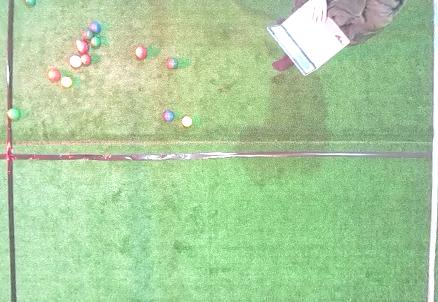blue: (163, 111, 174, 122), (90, 22, 101, 33)
green: (8, 108, 20, 120), (167, 58, 178, 69), (91, 36, 101, 46), (83, 30, 93, 39), (24, 1, 35, 6)
red: (47, 69, 61, 82), (70, 55, 81, 68), (135, 47, 147, 58), (78, 41, 88, 53), (81, 54, 91, 65)
vline: (425, 1, 437, 301), (1, 119, 19, 301), (1, 1, 15, 107)
white: (76, 40, 80, 44)
yellow: (61, 76, 72, 88), (182, 116, 192, 127)
